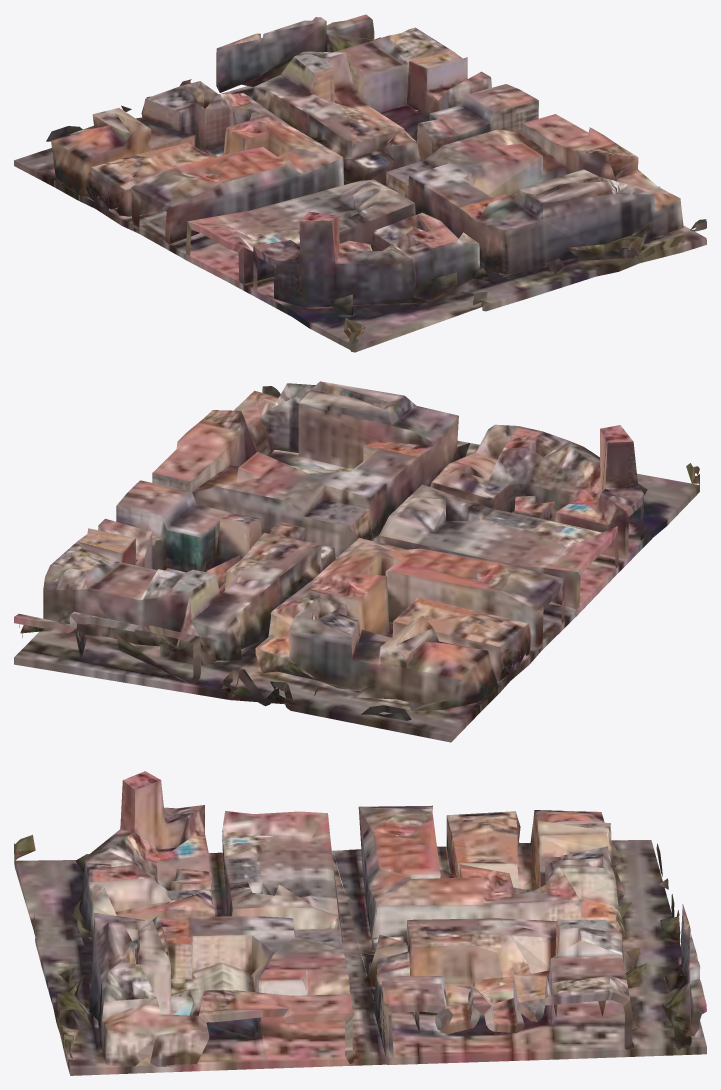
3 renders of one model, top to bottom at view 1: azimuth 30°, elevation 25°; view 2: azimuth 150°, elevation 25°; view 3: azimuth 270°, elevation 25°, orthographic. The views are drawn at different scales.
Parts seen in each view (by area): view 1: Mesh_0; view 2: Mesh_0; view 3: Mesh_0.
Part boxes in pixels (<box>): Mesh_0: <box>14,14,706,352</box>; Mesh_0: <box>14,381,699,742</box>; Mesh_0: <box>14,771,706,1075</box>.
Size of the model in its own units: 266 by 59.3 by 330.
2 materials, 2 textured.
